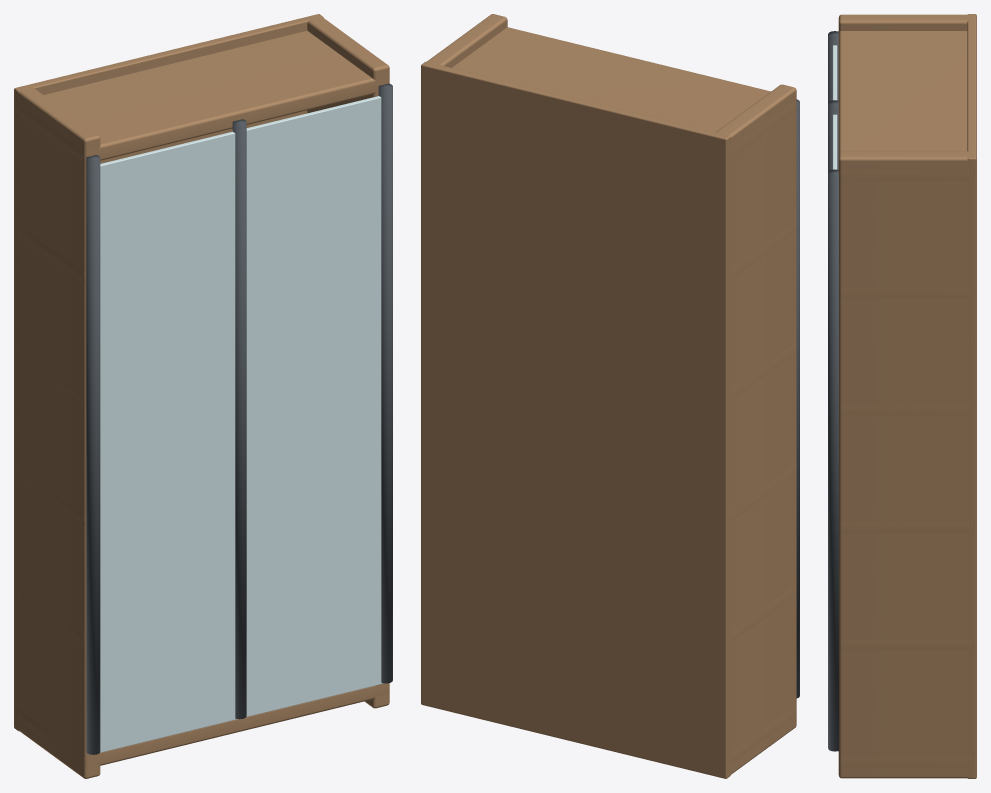
Rendered from atelier-display-cabinet.glb.
The picture shows the model from 3 angles, left to right: view 1: azimuth 30°, elevation 25°; view 2: azimuth 150°, elevation 25°; view 3: azimuth 270°, elevation 25°; orthographic projection. The views are drawn at different scales.
Visible parts, largest first — view 1: glass.001, legs.084, metal.028; view 2: legs.084, metal.028; view 3: legs.084, metal.028, glass.001.
Boxes of the visible parts, x1,y1,x2,y2 form: glass.001: (100, 96, 384, 752); legs.084: (14, 14, 389, 778); metal.028: (86, 83, 392, 754); legs.084: (421, 14, 796, 778); metal.028: (796, 99, 799, 698); legs.084: (838, 14, 976, 778); metal.028: (828, 31, 838, 751); glass.001: (832, 45, 837, 169).
Size of the model in its own units: 0.9001 by 1.8 by 0.3905.
